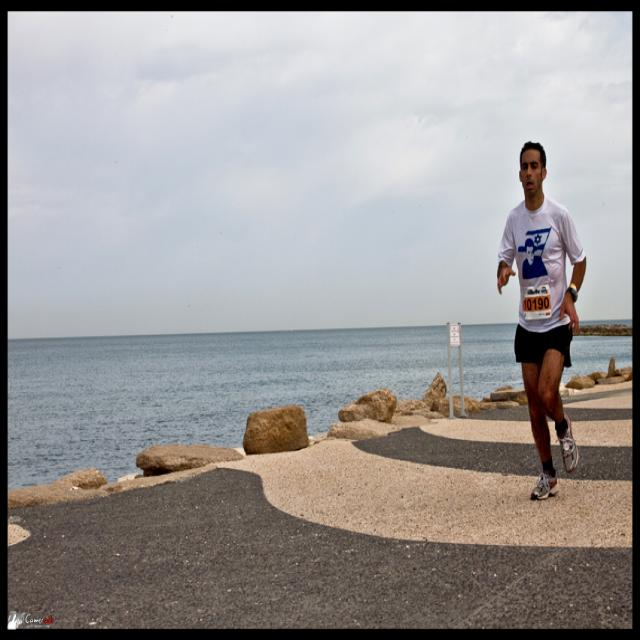Bib: (521, 297, 547, 315)
